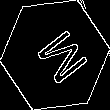M_SW: (24, 22, 86, 88)
